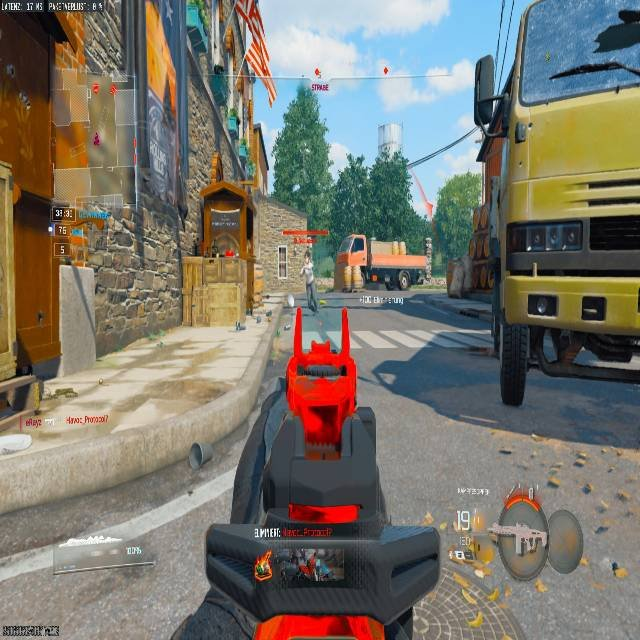player: (301, 251, 314, 292)
